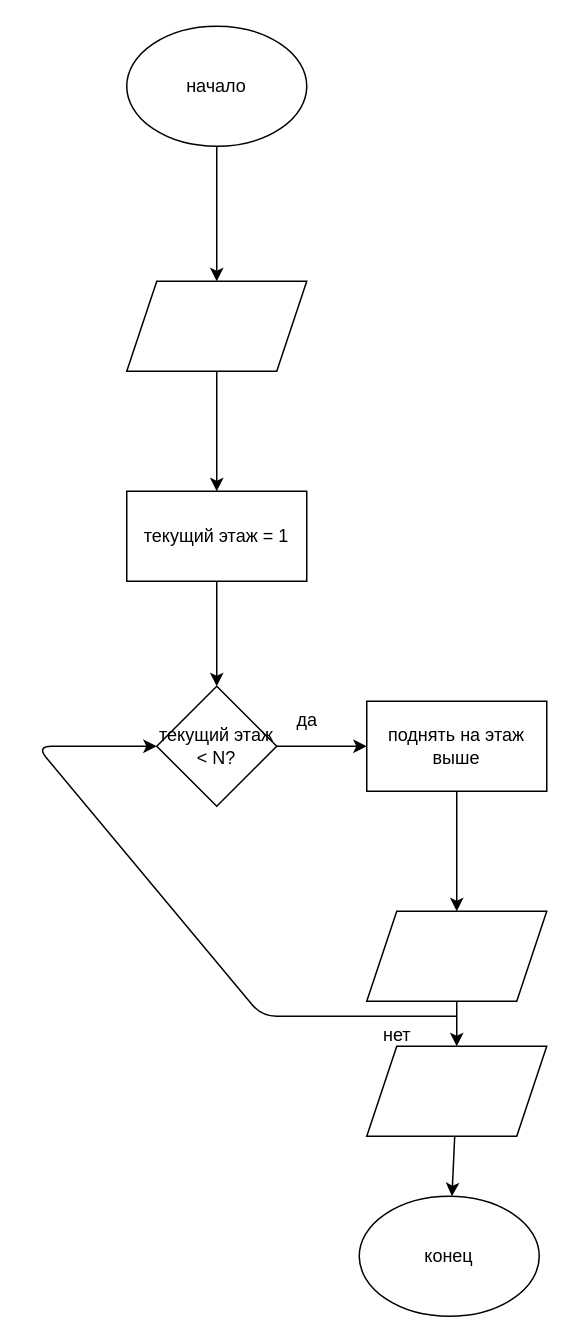
The diagram is 573 pixels wide and 1343 high, and some of its shapes have lost their labels. Each missing label, with the box of its shape:
ввод целевого этажа N: (125, 280, 307, 371)
вы на целевом этаже: (365, 1045, 547, 1136)
тек. этаж = тек. этаж +1: (365, 910, 547, 1001)
